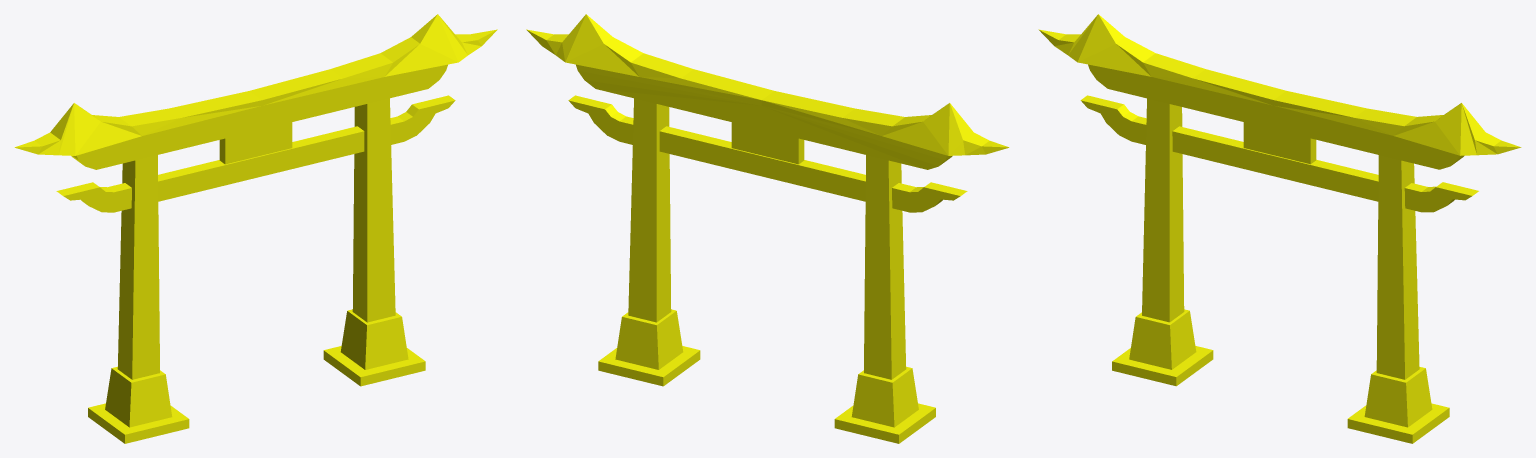
Rendered from nsm-035-woodgate.glb.
3 renders of one model, left to right at view 1: azimuth 30°, elevation 25°; view 2: azimuth 150°, elevation 25°; view 3: azimuth 330°, elevation 25°, orthographic.
Parts seen in each view (by area): view 1: Sphere01; view 2: Sphere01; view 3: Sphere01.
Boxes of the visible parts, <box> form: Sphere01: <box>14,14,497,443</box>; Sphere01: <box>526,14,1009,443</box>; Sphere01: <box>1038,14,1521,443</box>.
Bounding box in the file's own units: 20.57 × 13.63 × 2.72.
Materials: 1 (1 with a texture image).
